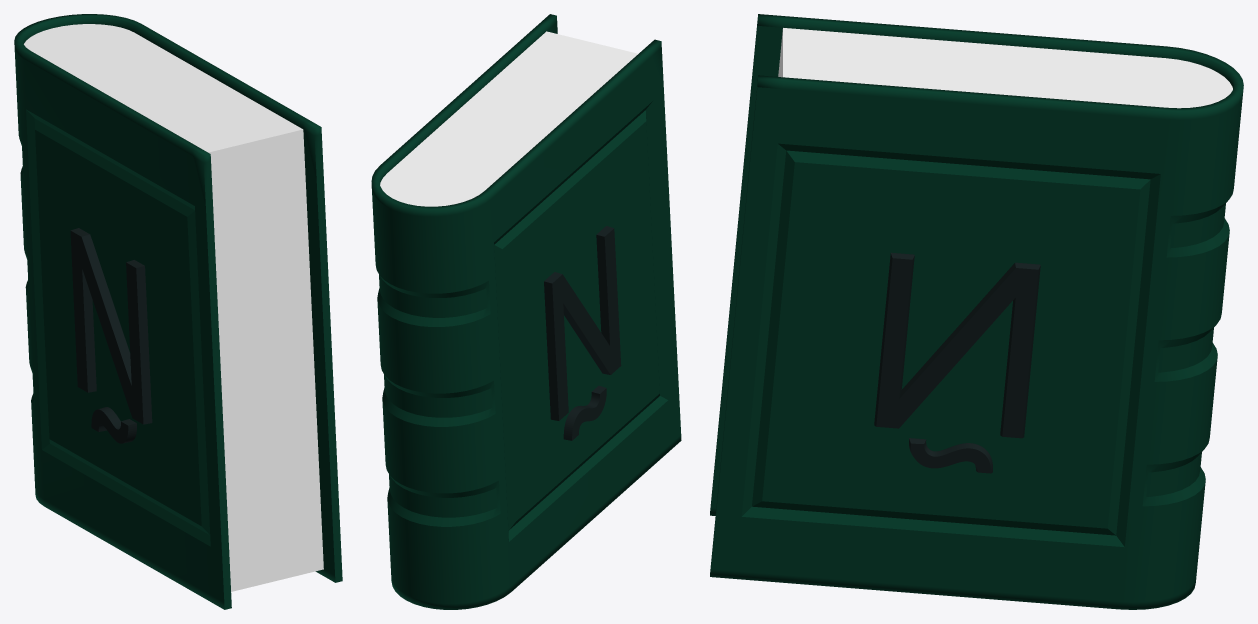
The model's file is libro3.FBX.
The picture shows the model from 3 angles, left to right: view 1: azimuth 30°, elevation 25°; view 2: azimuth 150°, elevation 25°; view 3: azimuth 270°, elevation 25°; orthographic projection. The views are drawn at different scales.
Visible parts, largest first — view 1: LIBRO; view 2: LIBRO; view 3: LIBRO.
Boxes of the visible parts, x1,y1,x2,y2 form: LIBRO: [14, 14, 342, 609]; LIBRO: [371, 14, 681, 609]; LIBRO: [710, 14, 1243, 609].
Bounding box in the file's own units: 20.85 × 70.77 × 63.85.
